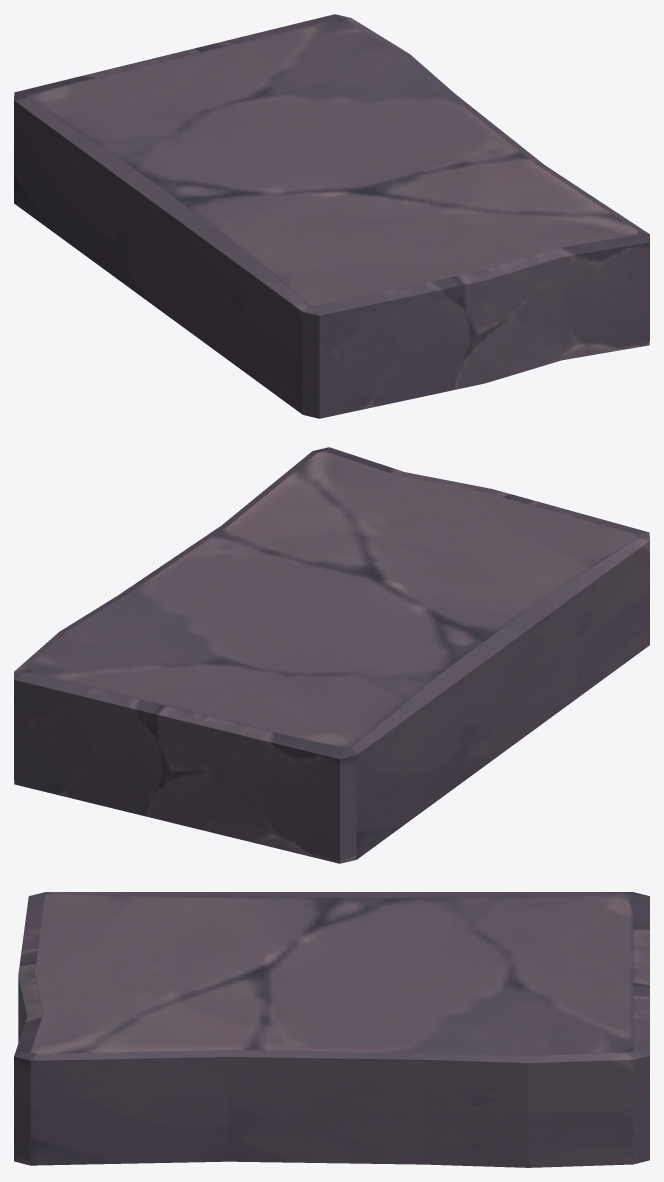
The model's file is Stone_brick_a.FBX.
The picture shows the model from 3 angles, top to bottom: view 1: azimuth 30°, elevation 25°; view 2: azimuth 150°, elevation 25°; view 3: azimuth 270°, elevation 25°; orthographic projection.
Visible parts, largest first — view 1: Box022; view 2: Box022; view 3: Box022.
Boxes of the visible parts, bbox=[...] form: Box022: bbox=[14, 14, 649, 418]; Box022: bbox=[14, 447, 649, 863]; Box022: bbox=[14, 892, 649, 1167].
Size of the model in its own units: 1.78 by 0.5361 by 2.8.
Materials: 1 (1 with a texture image).
